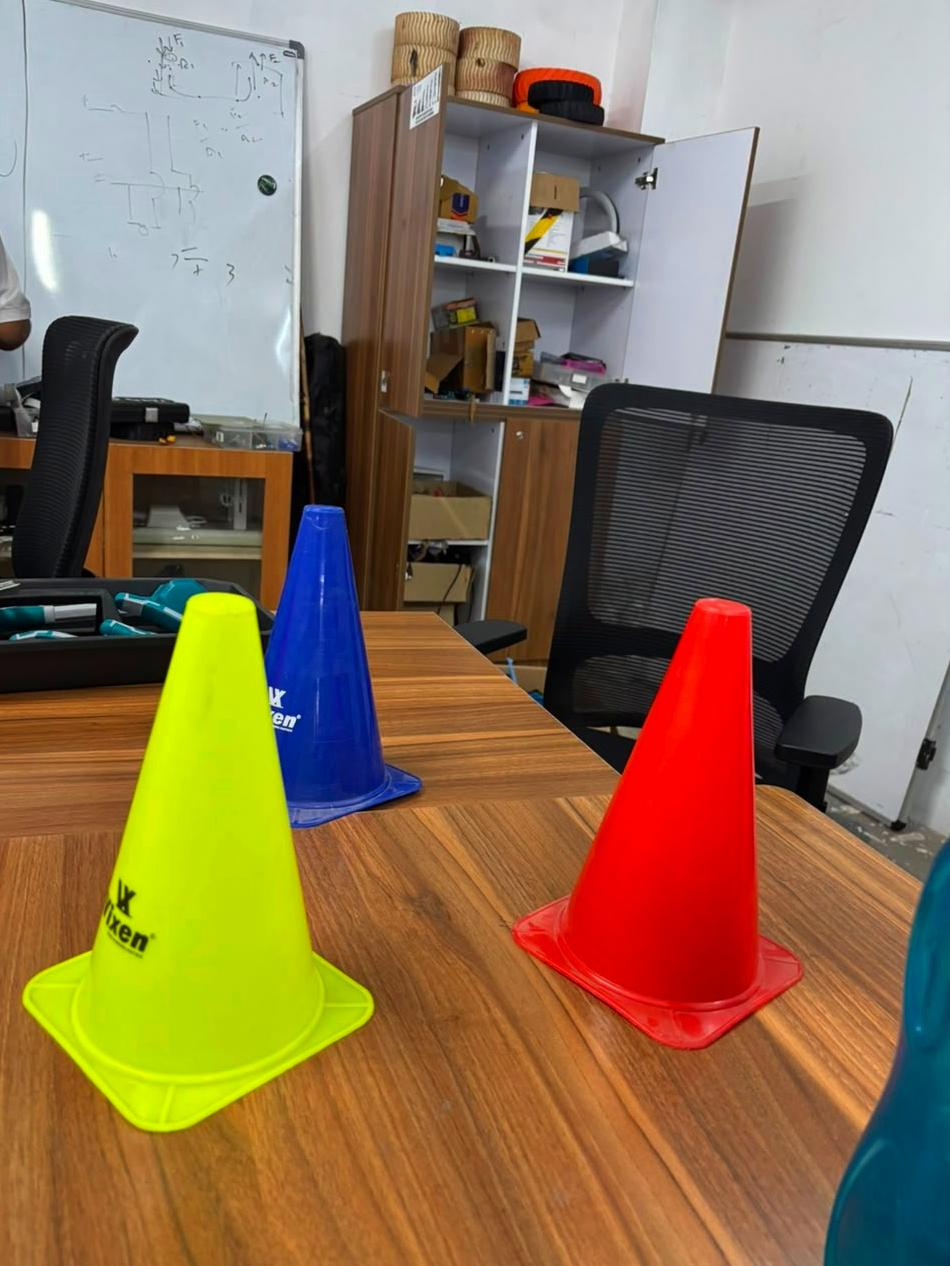0 cone: (23, 506, 420, 1132), (513, 598, 802, 1049)
